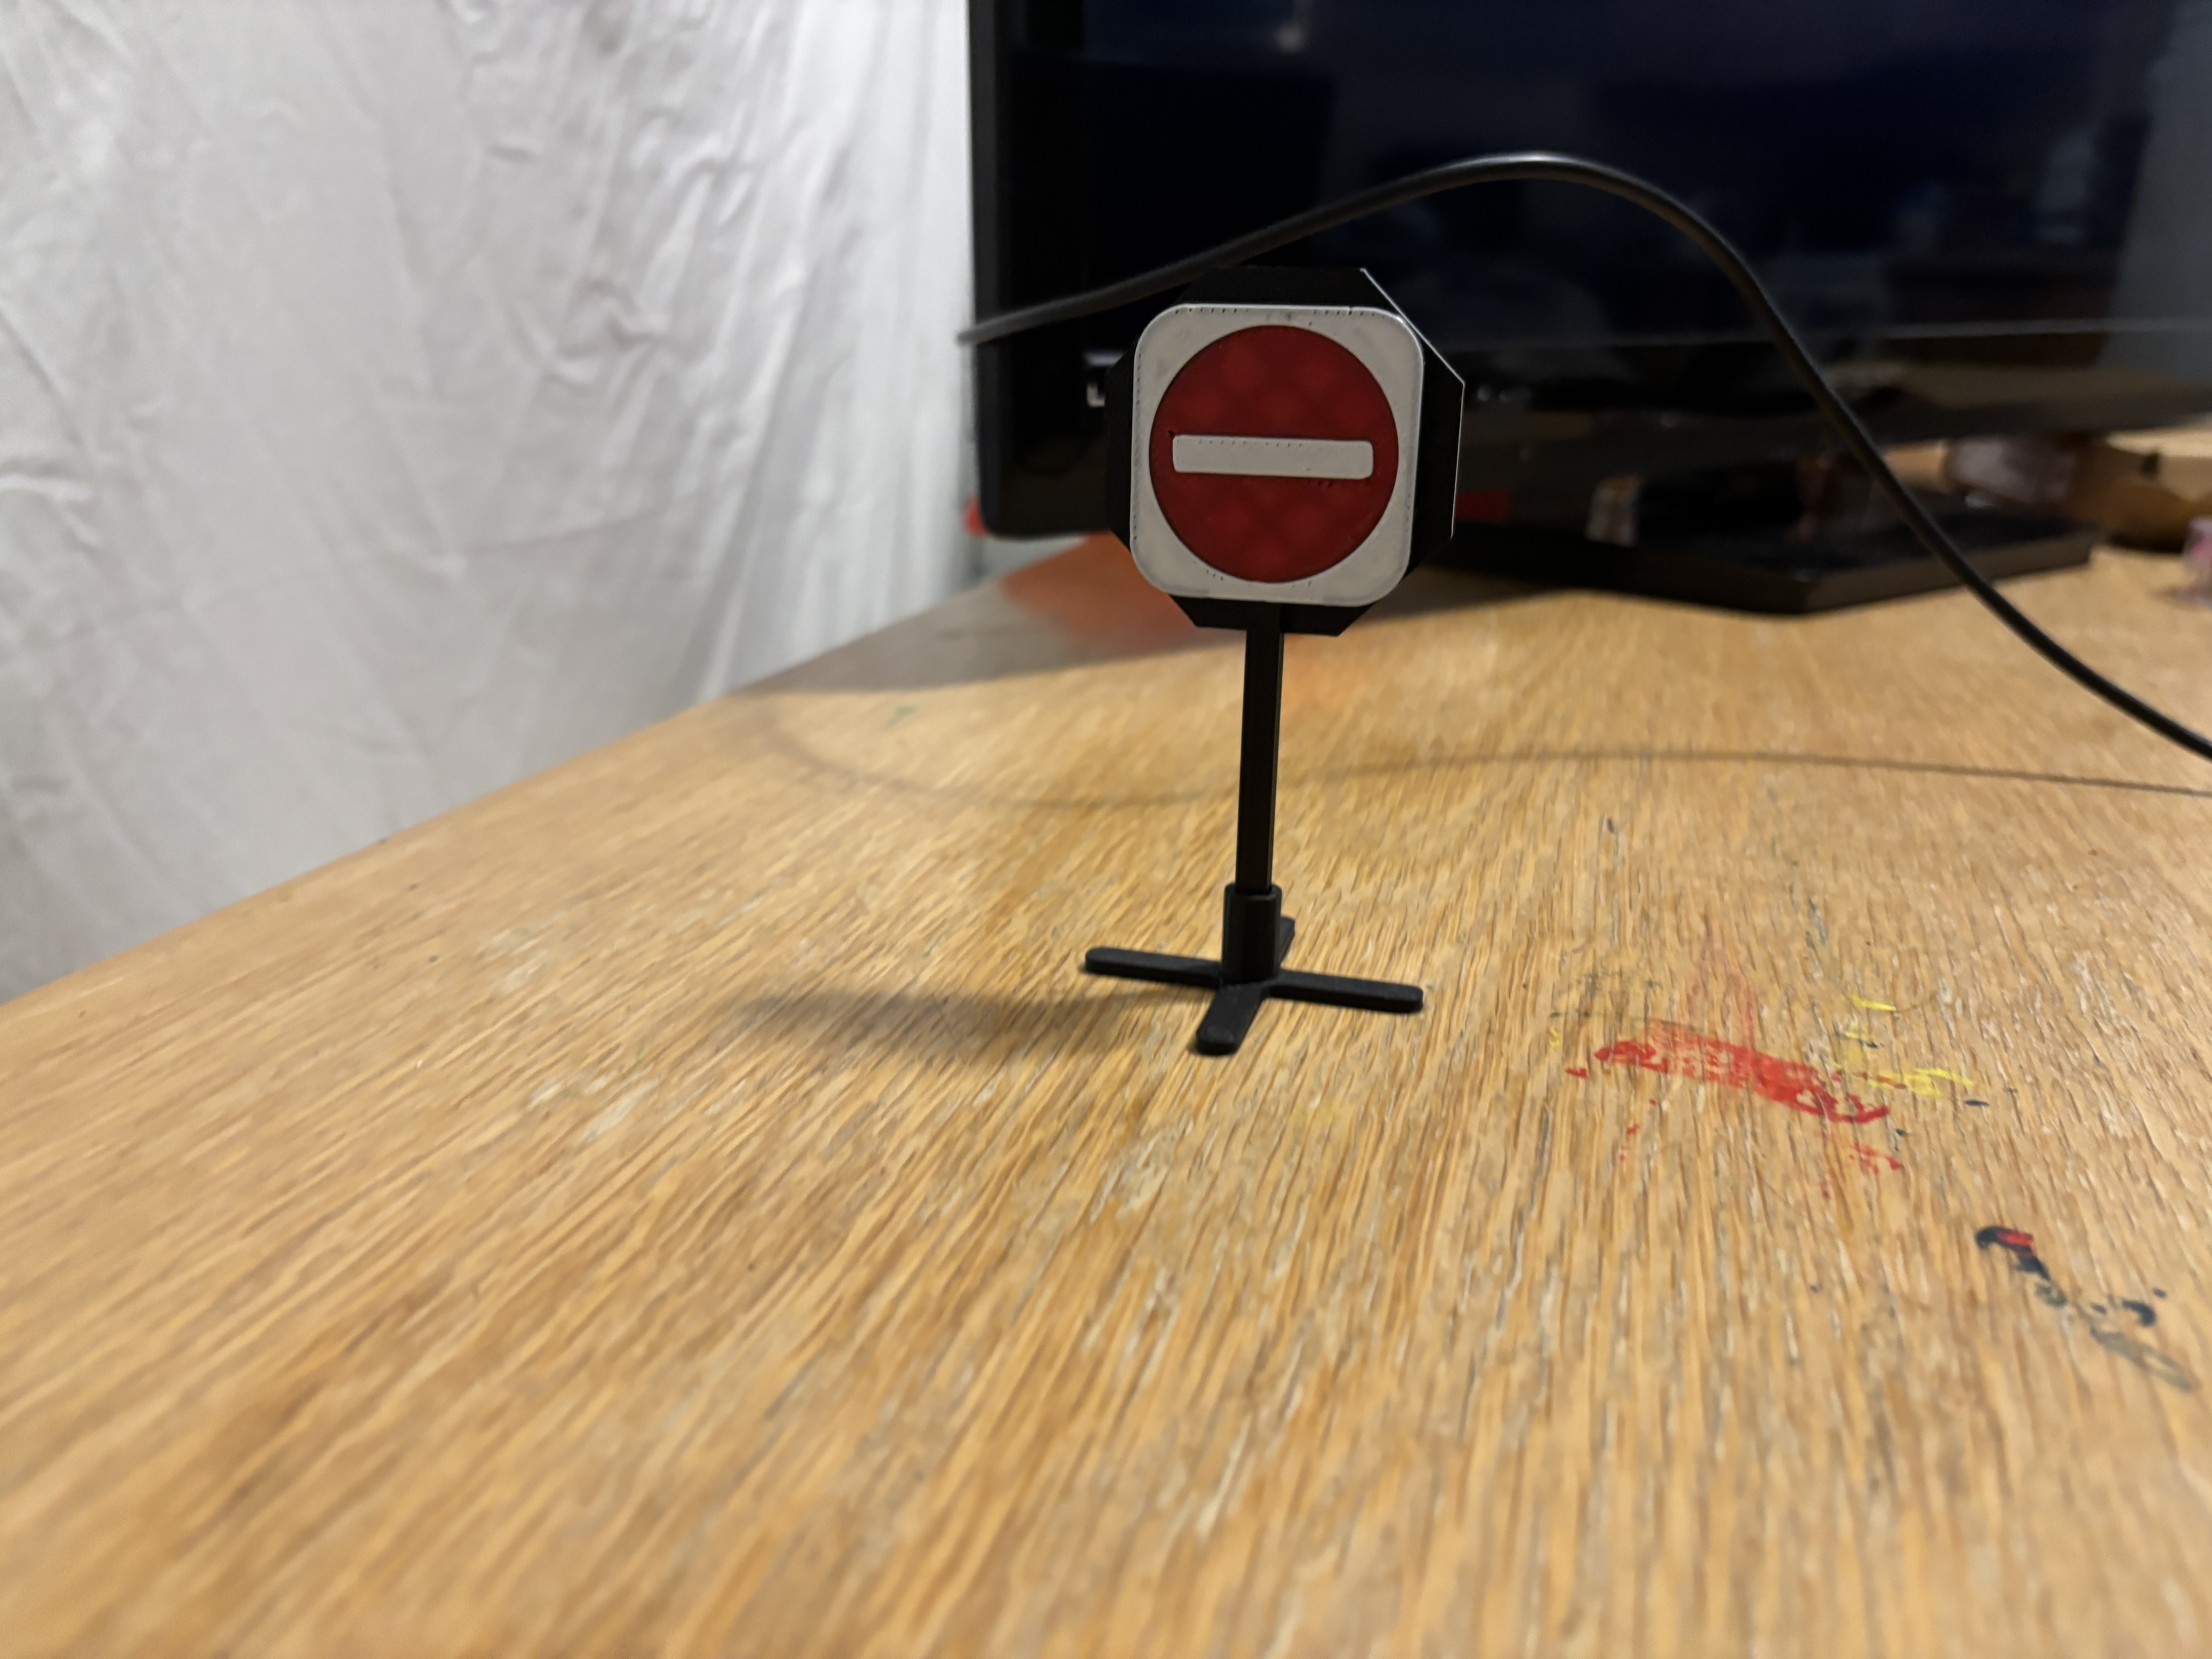sign_noentry: (1127, 288, 1432, 613)
